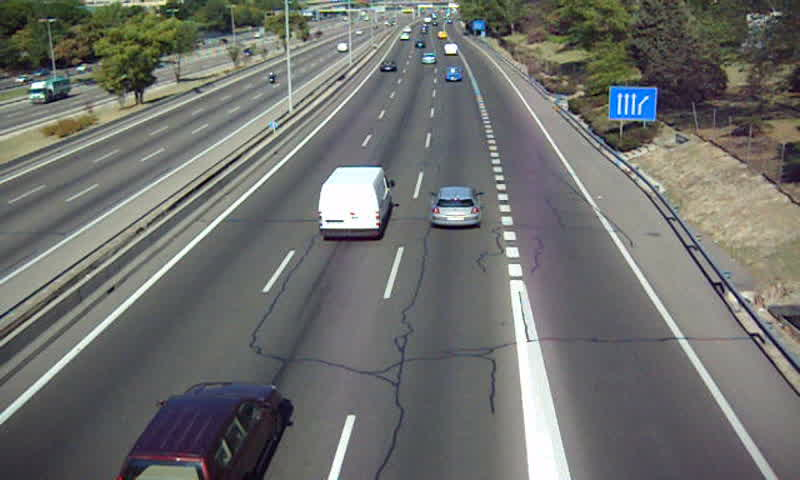car: (117, 383, 283, 480), (431, 187, 481, 226), (443, 66, 463, 84), (419, 51, 438, 66), (379, 60, 397, 72)
van: (318, 167, 392, 237)
